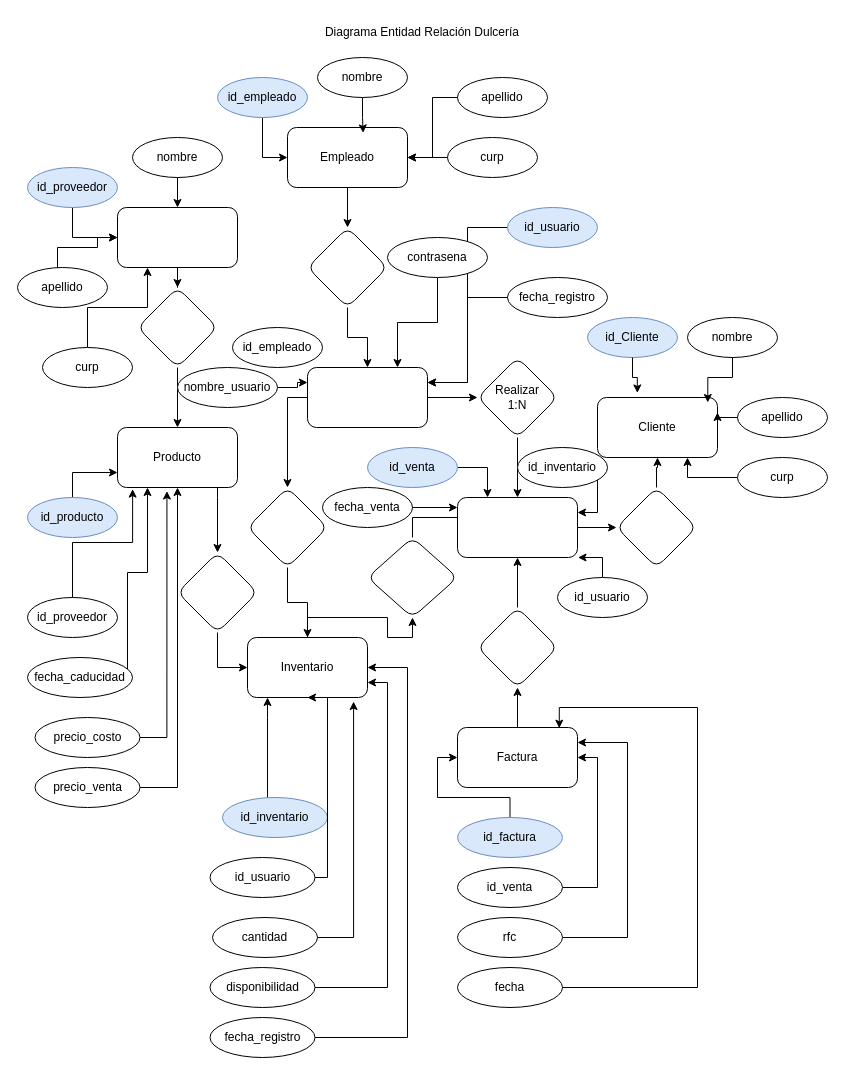
The diagram is 845 pixels wide and 1075 high, and some of its shapes have lost their labels. The box of each missing label's shape, as (x1, y1, x2, y2) in pixels:
Importa 1:1: (476, 606, 558, 688)
N:1: (176, 552, 258, 632)
Proporciona N:N: (366, 536, 458, 618)
Proveedor: (116, 206, 238, 268)
Recibe N:N: (616, 486, 696, 568)
Registrar 1:1: (246, 486, 328, 568)
Tiene 1:1: (306, 226, 388, 308)
Usuario: (306, 366, 428, 428)
vende 1:N: (136, 286, 218, 368)
Venta: (456, 496, 578, 558)
